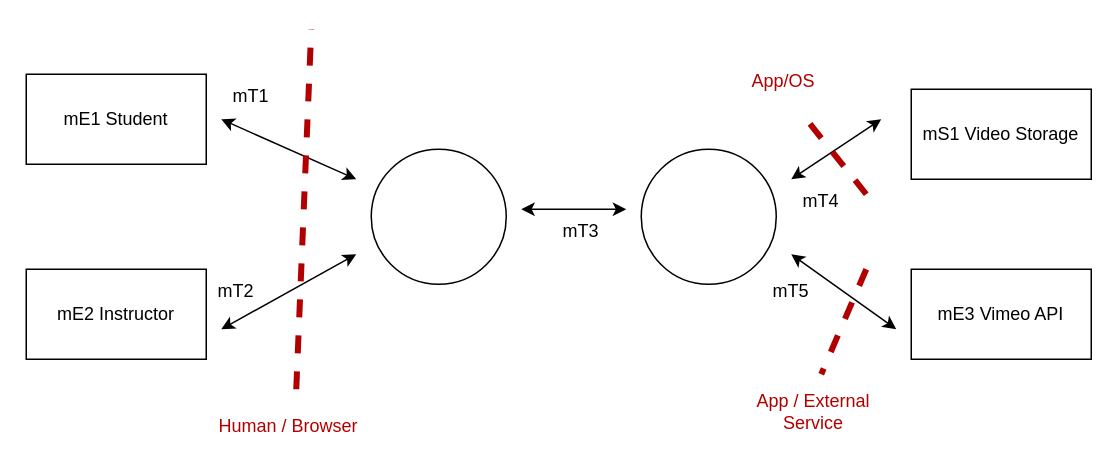
Image size: 1118x474. Some labels were removed from this diagram. The shapes that lost their labels are listed below. From the top down, each one's box as (x1, y1, x2, y2) in pixels, then its label:
(370, 148, 506, 284): mP1 Video Streaming Service (GO)
(640, 148, 776, 284): mP2 Video Storage Manager
